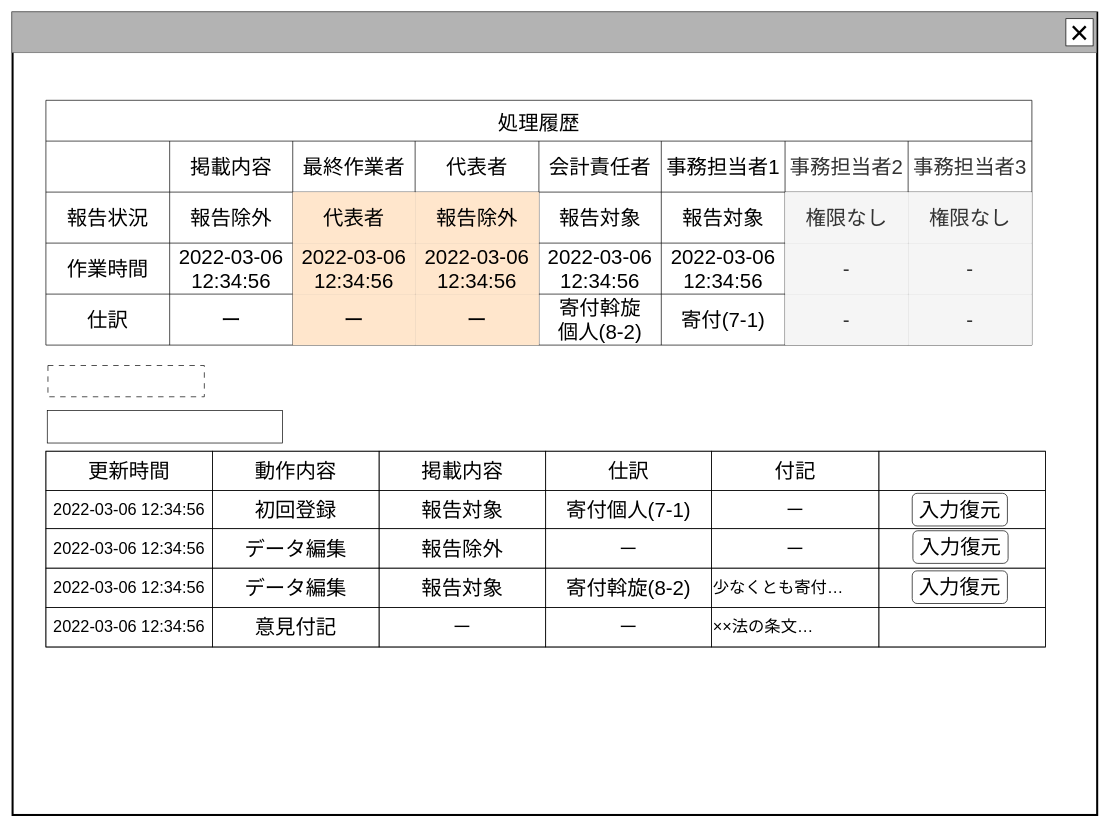
Some shapes in this 1110 by 828 pixel diagram are drawn without their labels. Here are the shapes that lost their labels. From the top down, the centre of each, then its label:
At point (125, 381): "履歴詳細".
At point (165, 426): "▼ 会計責任者".
